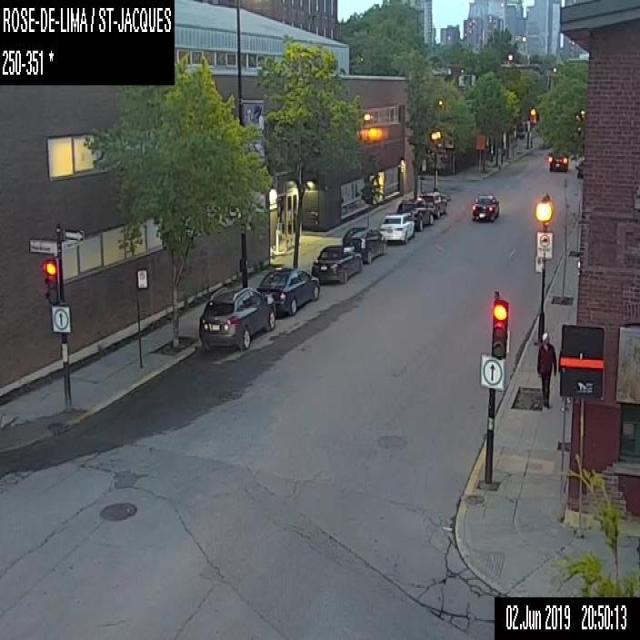construction: (476, 132, 485, 172)
pedestrian: (536, 328, 558, 407)
vehicle: (196, 280, 275, 351), (256, 266, 320, 314), (312, 243, 363, 283), (342, 225, 387, 264), (398, 197, 433, 229), (379, 212, 414, 243), (470, 192, 499, 220), (418, 190, 447, 217), (547, 152, 569, 172)
